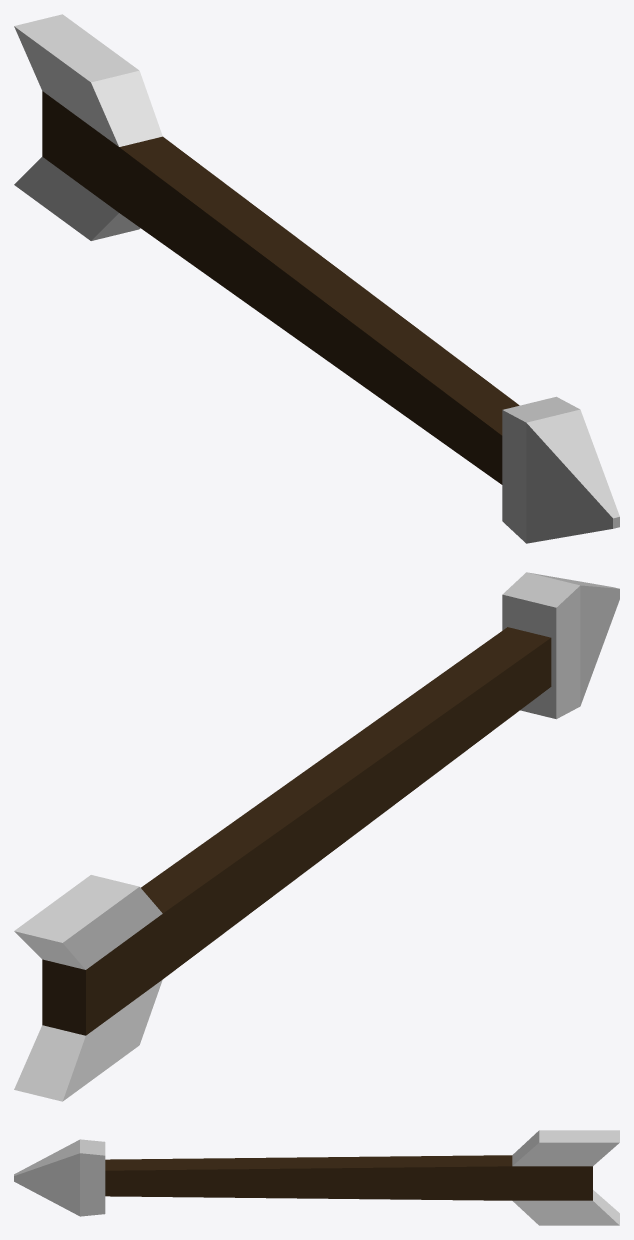
File: Skeleton_Arrow.fbx
3 renders of one model, top to bottom at view 1: azimuth 30°, elevation 25°; view 2: azimuth 150°, elevation 25°; view 3: azimuth 270°, elevation 25°, orthographic. The views are drawn at different scales.
Parts seen in each view (by area): view 1: Arrow; view 2: Arrow; view 3: Arrow.
Part boxes in pixels (x1=…): Arrow: x1=14, y1=14, x2=619, y2=543; Arrow: x1=14, y1=572, x2=619, y2=1101; Arrow: x1=14, y1=1130, x2=619, y2=1225.
Bounding box in the file's own units: 0.0313 × 0.0877 × 0.5793.
